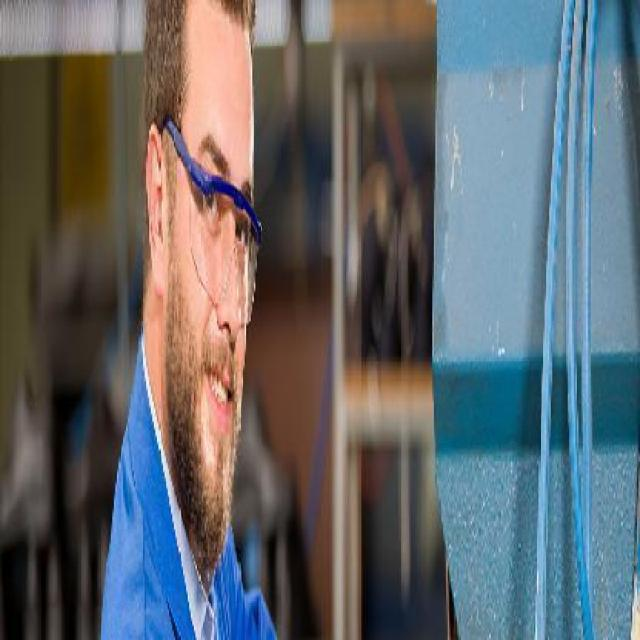face_nomask: (177, 166, 251, 437)
glasses: (161, 146, 262, 332)
